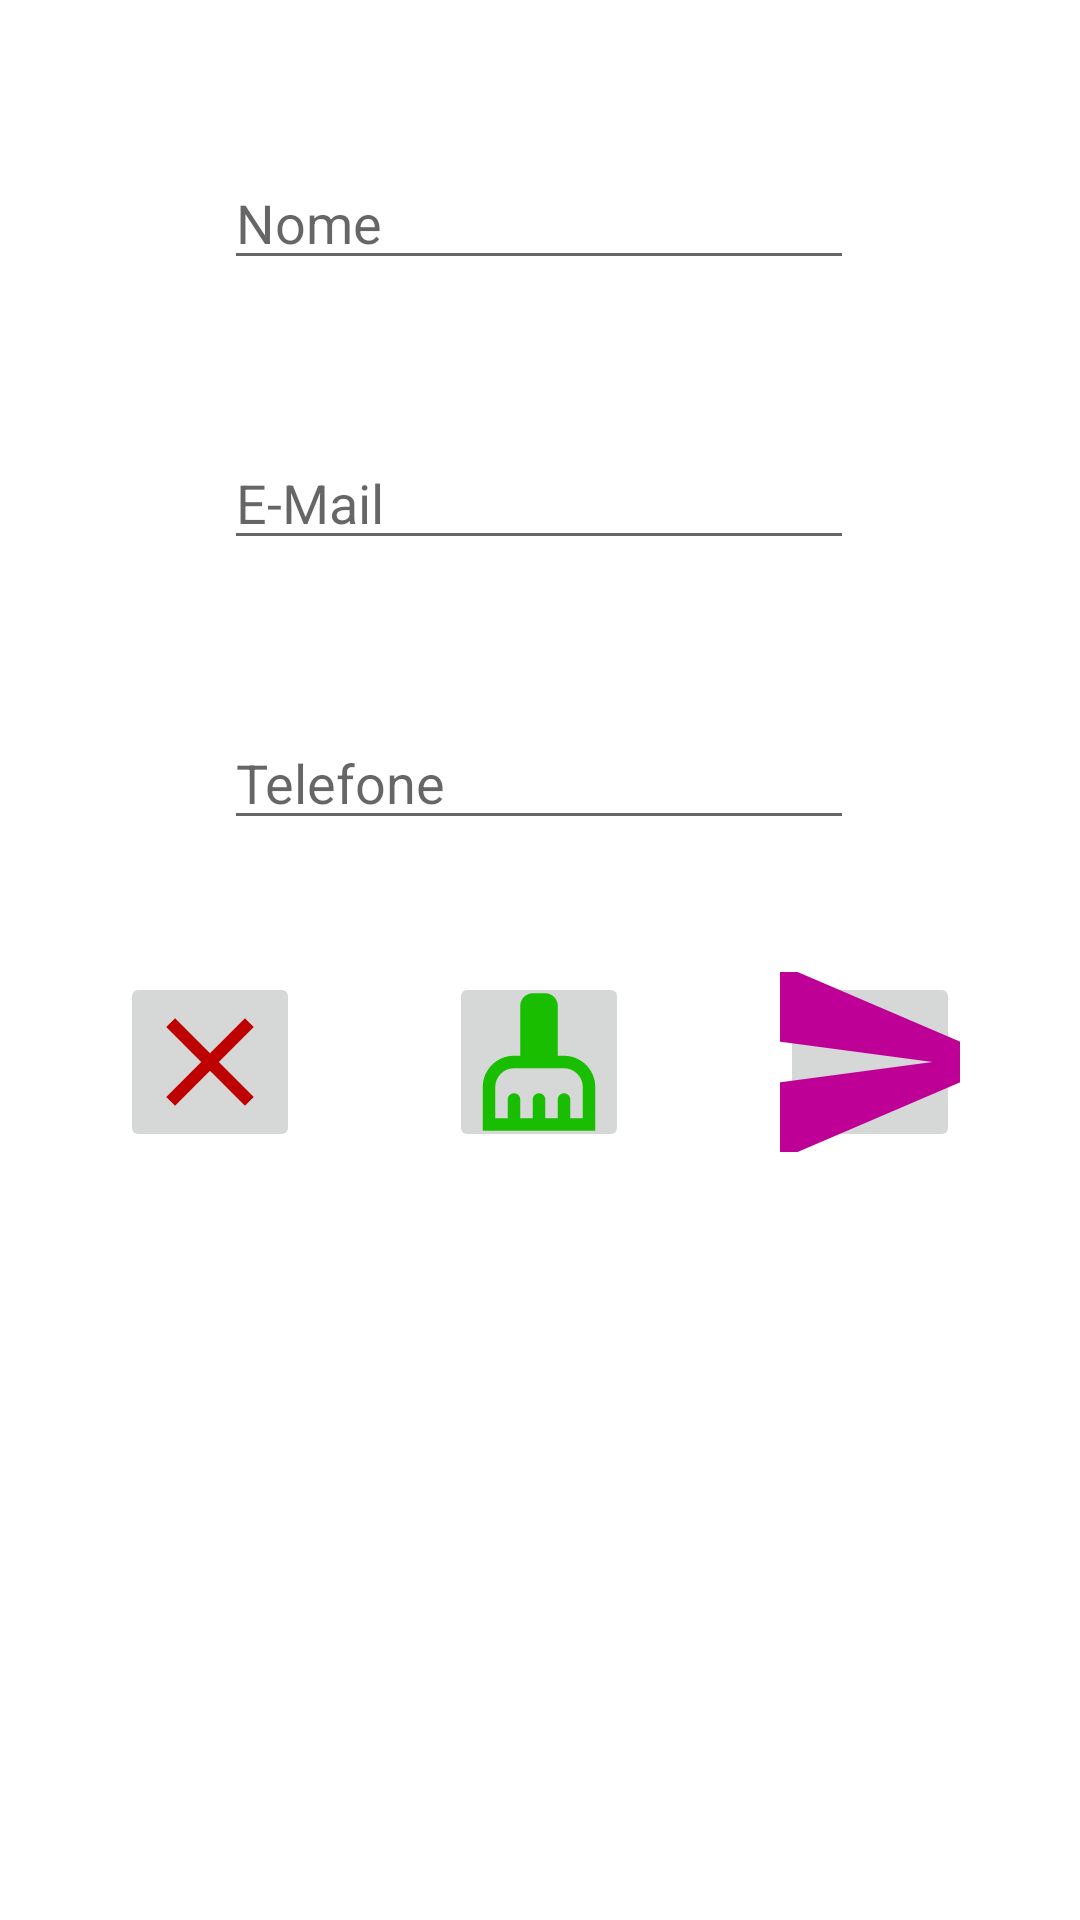

Icon bounding boxes for this 1080 x 1920 phone screenshot, format bbox=[x1, y1, x2, y2]:
enviar: bbox=[780, 972, 960, 1152]
fechar: bbox=[132, 990, 288, 1134]
limpar: bbox=[461, 990, 617, 1134]
